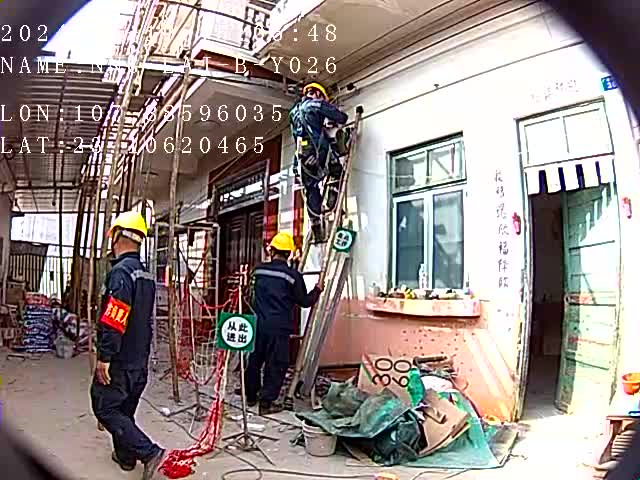halt: (109, 214, 151, 258), (270, 234, 297, 263), (305, 85, 329, 103)
inear: (109, 231, 125, 253)
